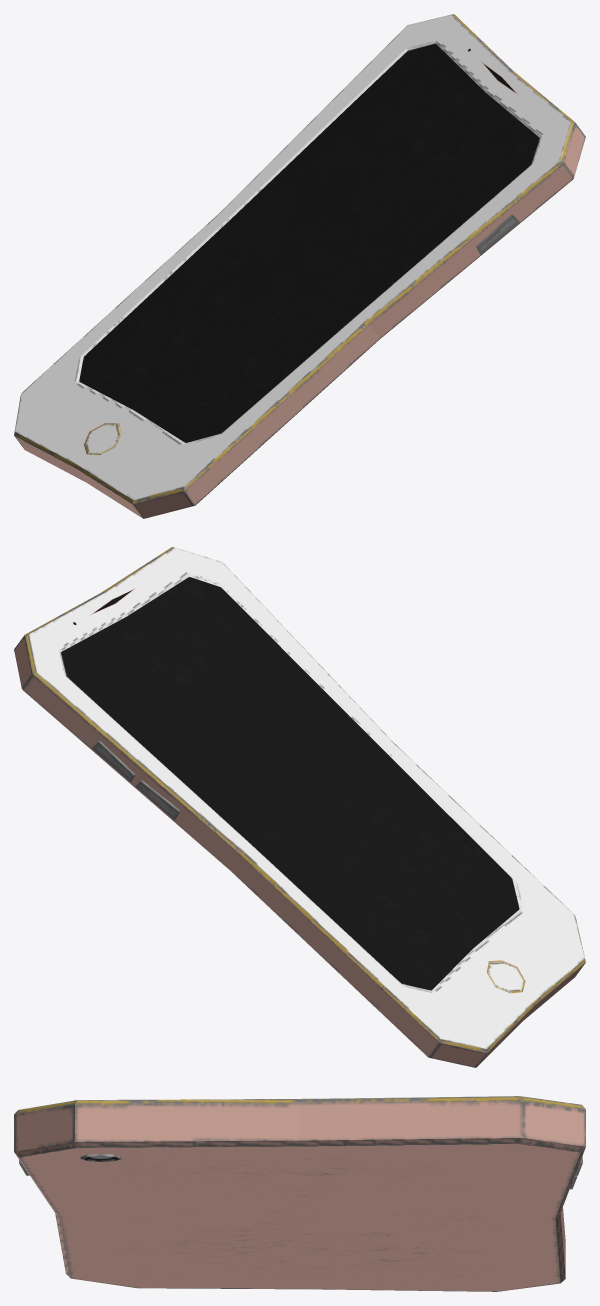
The model's file is iphone.glb.
The picture shows the model from 3 angles, top to bottom: view 1: azimuth 30°, elevation 25°; view 2: azimuth 150°, elevation 25°; view 3: azimuth 270°, elevation 25°; orthographic projection. The views are drawn at different scales.
Parts seen in each view (by area): view 1: Object_2; view 2: Object_2; view 3: Object_2.
Boxes of the visible parts, box(x1,y1,x2,y2) form: Object_2: box(14, 14, 585, 518); Object_2: box(14, 547, 585, 1067); Object_2: box(14, 1096, 585, 1291).
Bounding box in the file's own units: 17.1 × 11.63 × 10.98.
1 material, 1 textured.
